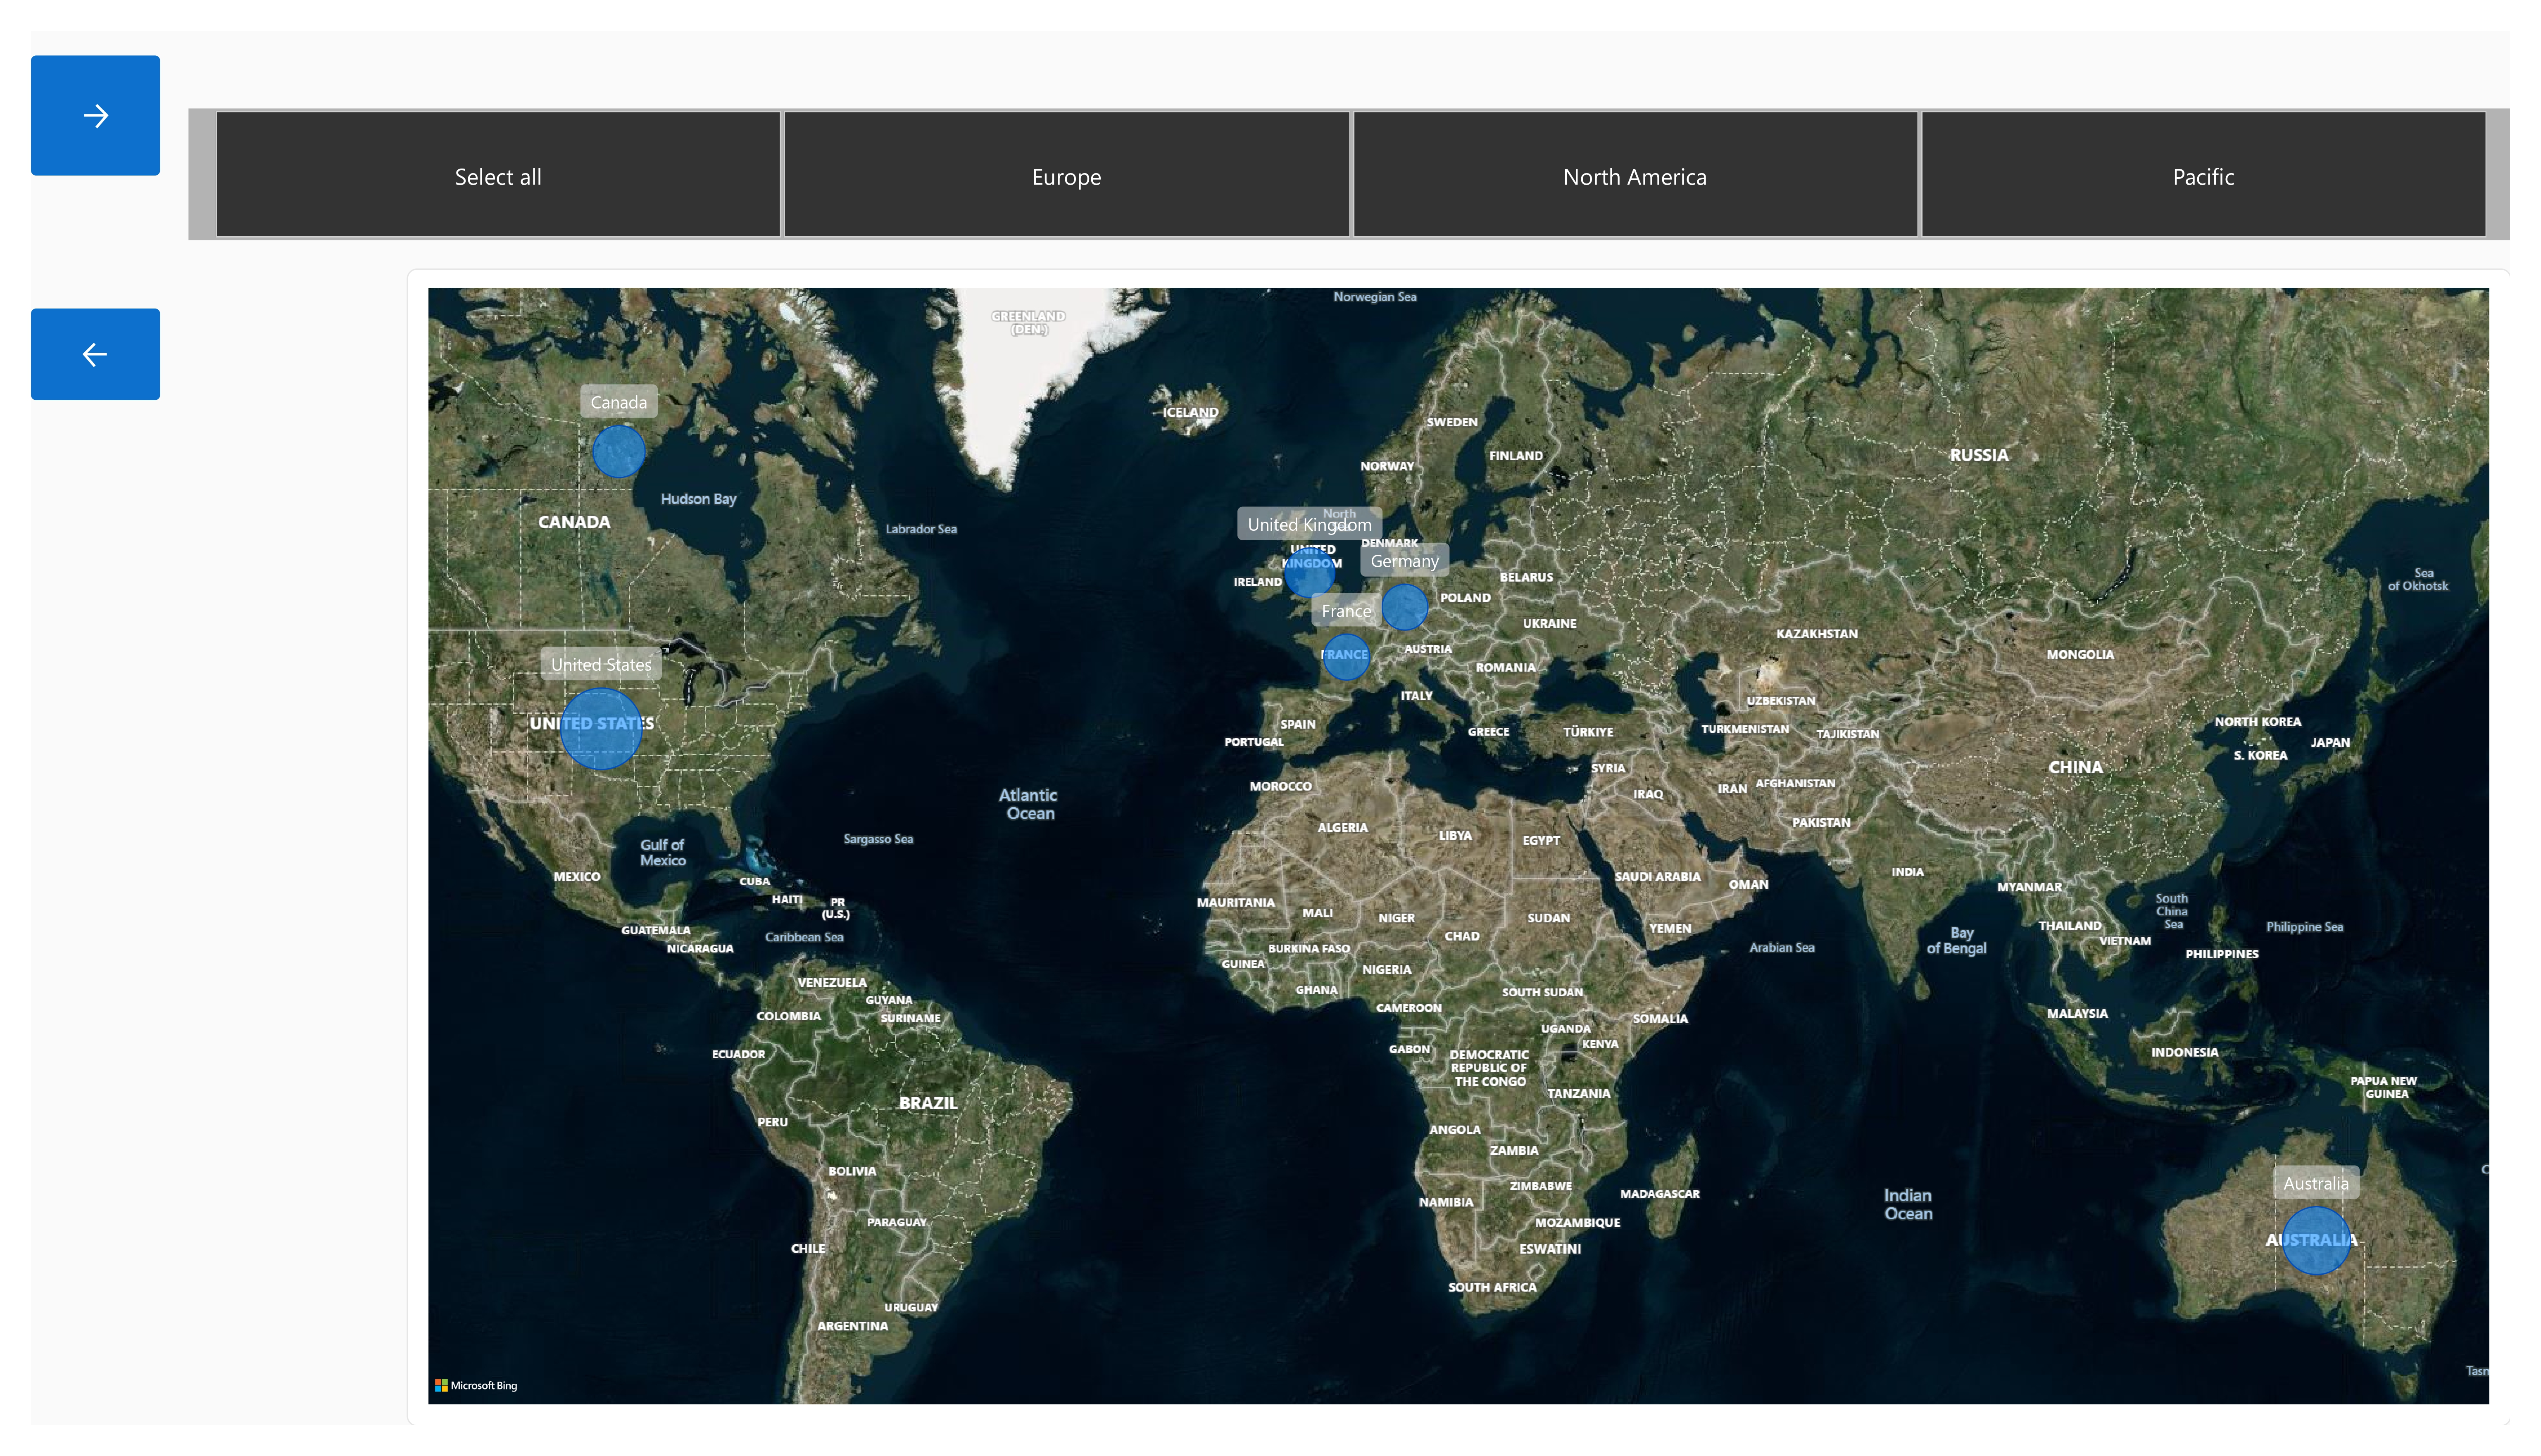

The dashboard page shown, as its layout file describes it:
{"tool":"powerbi","page":{"name":"Maps","canvas":[1920,1080],"ordinal":7},"visuals":[{"type":"map","fields":{"Category":["Territories_lookup.Country"],"Size":["Sales data.Total order cc"]},"box":[291.1,183.7,1629.6,897.1],"z":0},{"type":"slicer","fields":{"Values":["Territories_lookup.Continent"]},"box":[121.7,59.6,1799,102.6],"z":1000},{"type":"actionButton","box":[0,19.1,100.2,93.1],"z":2000},{"type":"actionButton","box":[0,214.7,100.2,71.6],"z":3000}]}

Visuals, with their boxes in screenshot pixels (x1, y1, x2, y2):
map - Territories_lookup.Country x Sales data.Total order cc: box=[433, 264, 2484, 1393]
slicer - Territories_lookup.Continent: box=[219, 108, 2484, 237]
actionButton: box=[66, 57, 192, 174]
actionButton: box=[66, 303, 192, 393]
